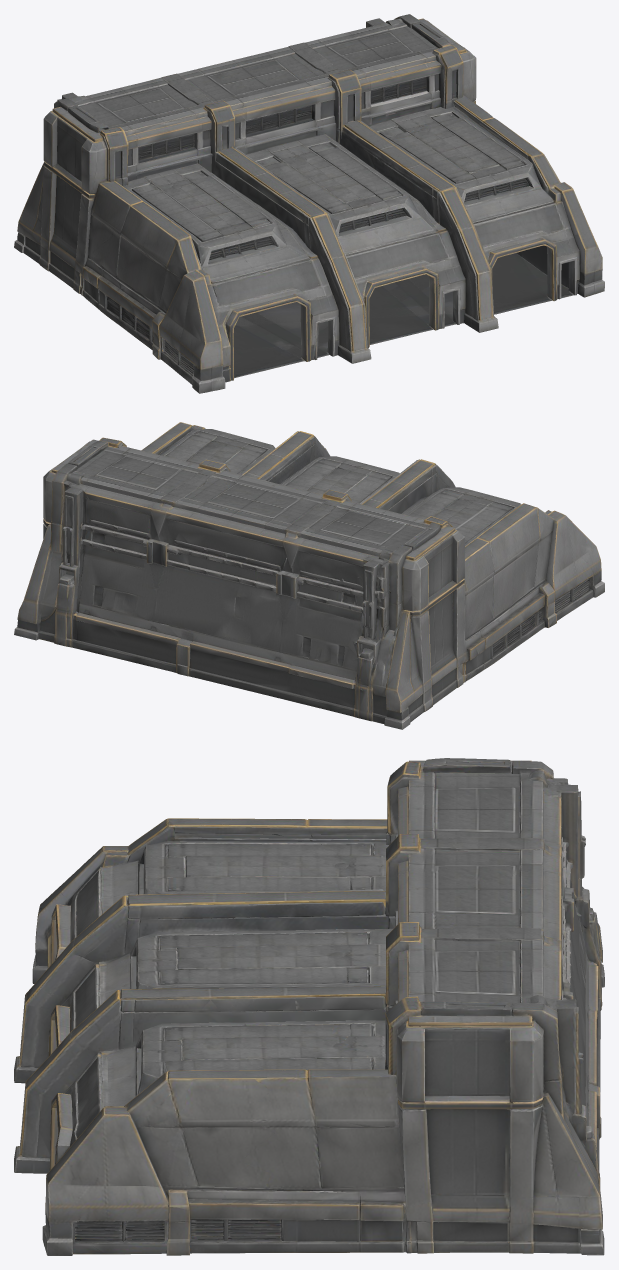
Rendered from imperial_munitions_plant.glb.
3 views of the same model, one above another, from view 1: azimuth 30°, elevation 25°; view 2: azimuth 150°, elevation 25°; view 3: azimuth 270°, elevation 25° (orthographic). The views are drawn at different scales.
Parts seen in each view (by area): view 1: mesh_node; view 2: mesh_node; view 3: mesh_node.
Boxes of the visible parts, x1,y1,x2,y2 form: mesh_node: [14, 14, 604, 393]; mesh_node: [14, 422, 604, 729]; mesh_node: [14, 758, 604, 1255].
Size of the model in its own units: 31.74 by 11.81 by 27.37.
Materials: 1 (1 with a texture image).
